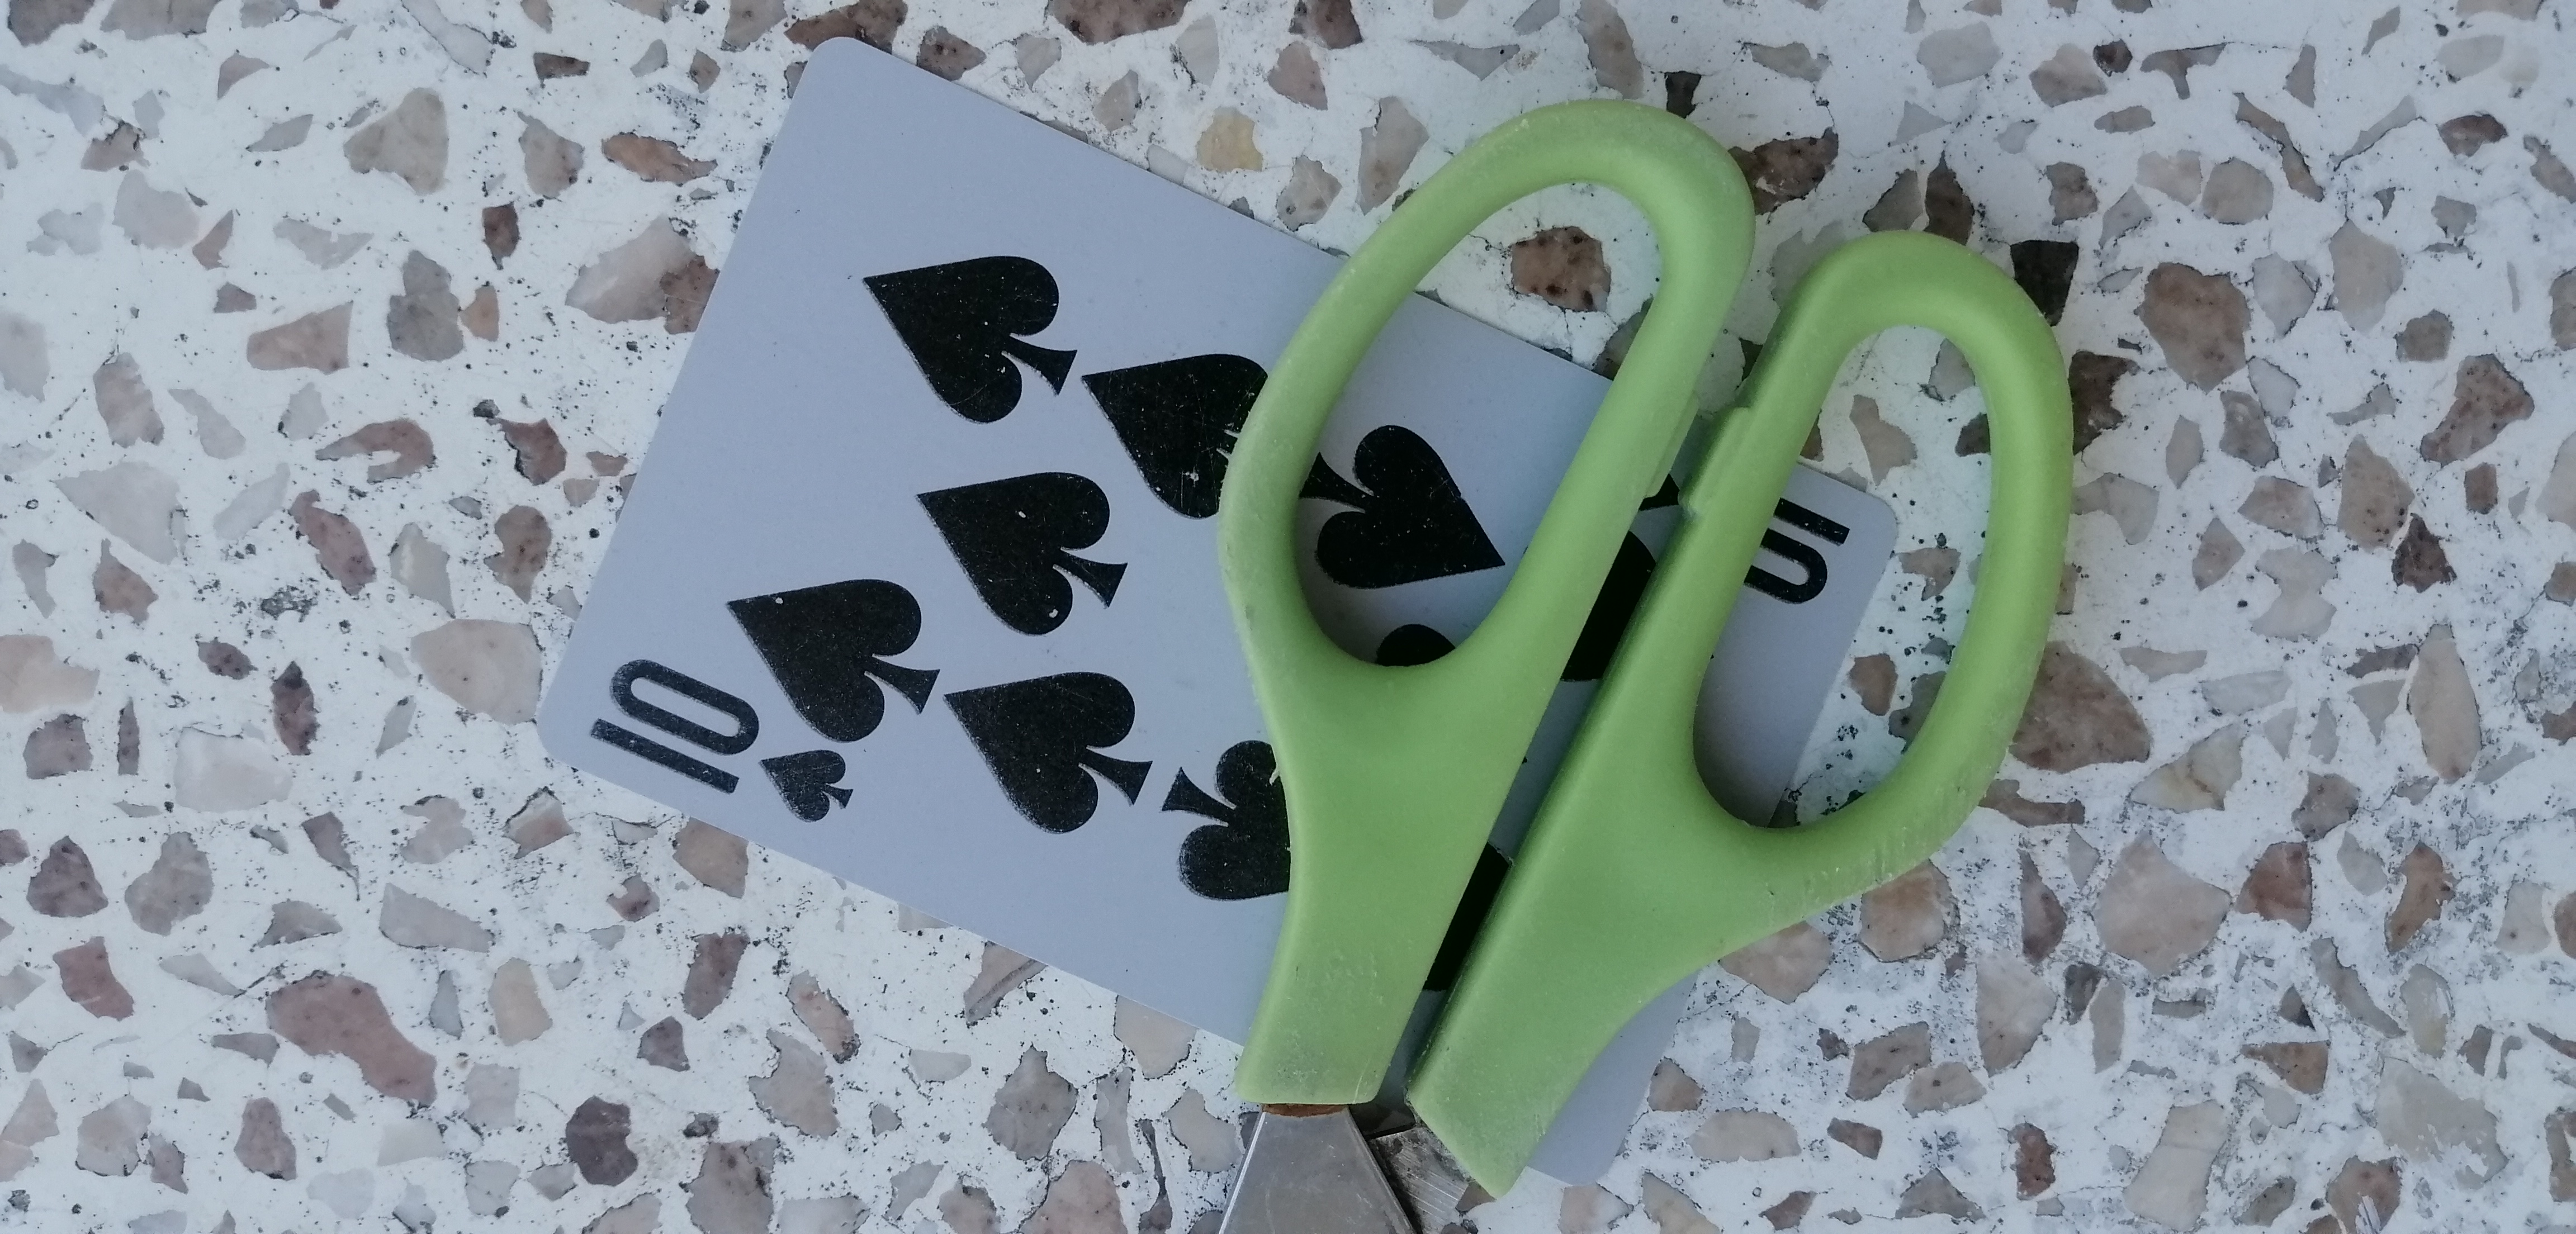ten: (447, 61, 1889, 935)
